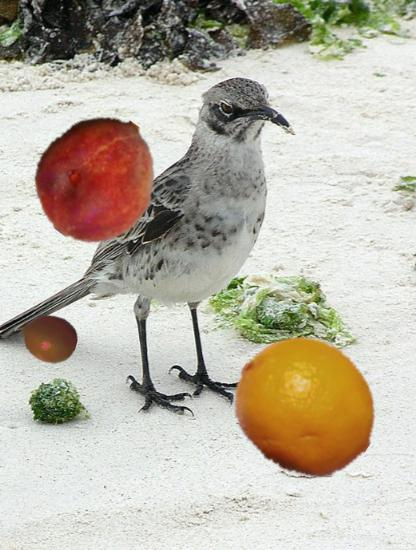Lemon: (232, 333, 380, 481)
Peach: (31, 112, 164, 245)
Tangelo: (20, 310, 78, 368)
